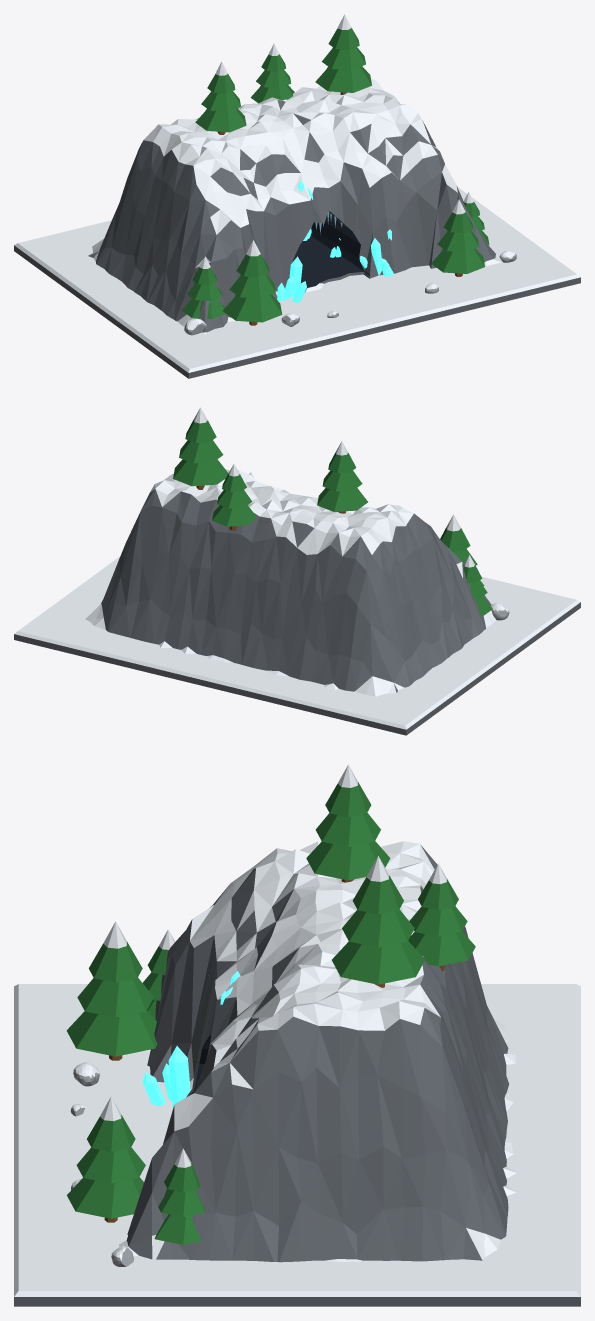
Rendered from ice-cave-entrance.glb.
3 renders of one model, top to bottom at view 1: azimuth 30°, elevation 25°; view 2: azimuth 150°, elevation 25°; view 3: azimuth 270°, elevation 25°, orthographic. The views are drawn at different scales.
Parts seen in each view (by area): view 1: Cliff, SnowBase, Pine_0, Pine_5, Pine_2, Pine_4, Pine_1, Pine_6; view 2: Cliff, SnowBase, Pine_5, Pine_4, Pine_6, Pine_0, Pine_1; view 3: Cliff, SnowBase, Pine_0, Pine_5, Pine_2, Pine_4, Pine_6, Pine_3, Pine_1, Crystal_0.
Boxes of the visible parts, bbox=[...] form: Cliff: bbox=[88, 78, 501, 334]; SnowBase: bbox=[14, 187, 580, 378]; Pine_0: bbox=[223, 240, 282, 325]; Pine_5: bbox=[315, 14, 371, 94]; Pine_2: bbox=[431, 199, 484, 276]; Pine_4: bbox=[195, 61, 246, 134]; Pine_1: bbox=[182, 256, 225, 319]; Pine_6: bbox=[250, 43, 294, 103]; Cliff: bbox=[85, 469, 496, 696]; SnowBase: bbox=[14, 556, 580, 735]; Pine_5: bbox=[173, 407, 228, 489]; Pine_4: bbox=[317, 441, 367, 513]; Pine_6: bbox=[212, 464, 256, 530]; Pine_0: bbox=[440, 515, 484, 586]; Pine_1: bbox=[463, 555, 492, 616]; Cliff: bbox=[119, 841, 516, 1262]; SnowBase: bbox=[14, 984, 580, 1306]; Pine_0: bbox=[66, 921, 157, 1060]; Pine_5: bbox=[332, 856, 424, 987]; Pine_2: bbox=[67, 1096, 145, 1222]; Pine_4: bbox=[306, 764, 390, 882]; Pine_6: bbox=[408, 863, 475, 971]; Pine_3: bbox=[154, 1148, 205, 1244]; Pine_1: bbox=[143, 929, 175, 1019]; Crystal_0: bbox=[168, 1046, 190, 1107].
Size of the model in its own units: 49 by 25.93 by 37.78.
